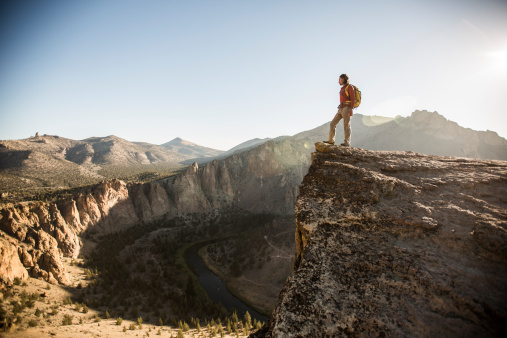em pe: (333, 73, 358, 146)
